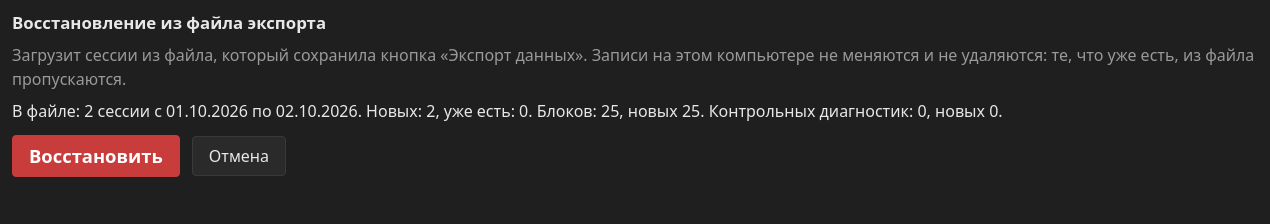
Test: RestoreSection › «Восстановить» shows the backup step, the progress and the result
The image size is (1270, 224).
Earlier steps of the test are not shown.
Expected: the text "Блоков: 25, новых 25." is shown, [12,100,1003,122]
Click the button "Восстановить". click: (96,156)
box: [12,135,180,177]
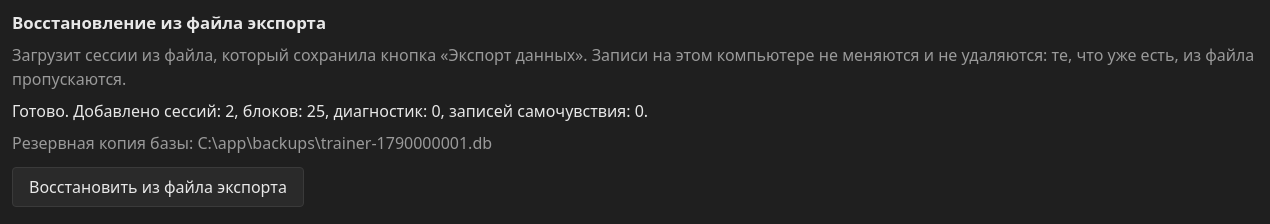
Expected: the button "Восстановить из файла экспорта" is enabled, [12,167,304,207]
Result: the message reads "Готово. Добавлено сессий: 2, блоков: 25, диагностик: 0, записей самочувствия: 0." at [12,100,648,122]
Result: the text "Резервная копия базы: C:\\app\\backups\\trainer-1790000001.db" is shown at [12,132,492,154]
